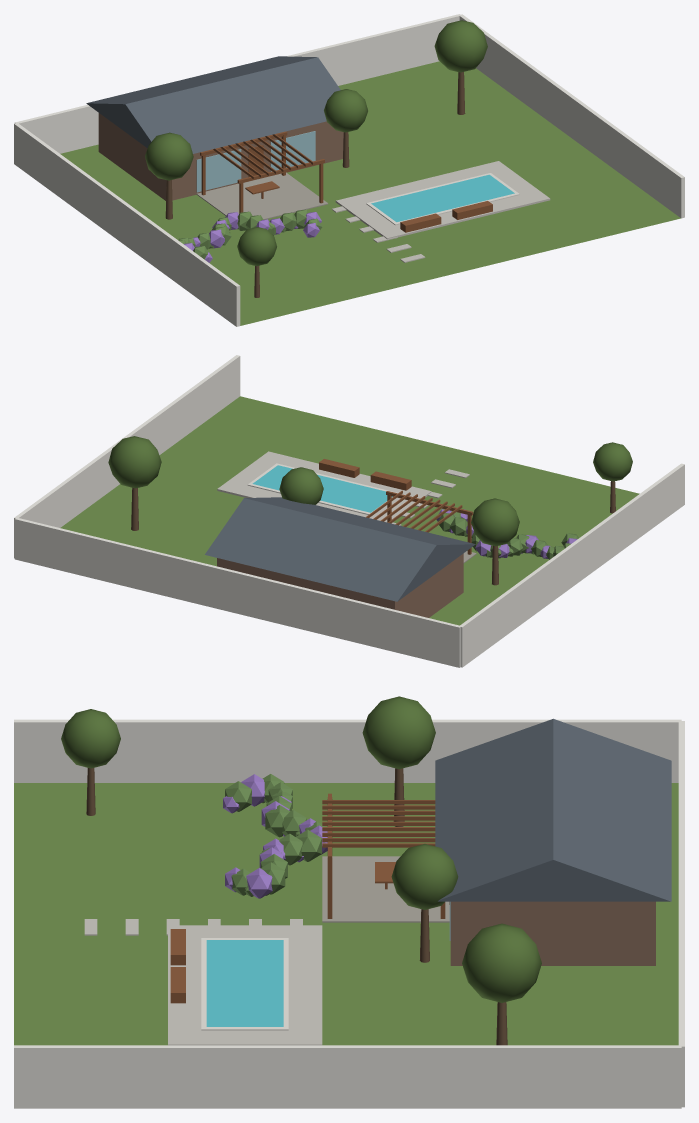
The model's file is maqueta-low-poly.glb.
The picture shows the model from 3 angles, top to bottom: view 1: azimuth 30°, elevation 25°; view 2: azimuth 150°, elevation 25°; view 3: azimuth 270°, elevation 25°; orthographic projection. The views are drawn at different scales.
Visible parts, largest first — view 1: Terreno, Techo, Medianera izquierda, Medianera derecha, Medianera fondo, Copa (×4), Volumen, Solárium, Piso galería, Agua, Ventanal izquierdo, Banco (×2) (+2 smaller); view 2: Terreno, Medianera fondo, Techo, Medianera izquierda, Medianera derecha, Copa (×4), Volumen, Solárium, Agua, Banco (×2), Borde; view 3: Terreno, Medianera derecha, Techo, Medianera izquierda, Copa (×4), Volumen, Solárium, Agua, Piso galería, Medianera fondo, Borde.
Part boxes in pixels (x1,y1,x2,y2): Terreno: (60,61,680,325); Techo: (86,56,340,153); Medianera izquierda: (14,123,240,326); Medianera derecha: (459,14,684,218); Medianera fondo: (14,14,461,153); Copa (×4): (145,20,487,266); Volumen: (98,113,343,200); Solárium: (335,161,550,238); Piso galería: (196,172,328,219); Agua: (371,174,514,222); Ventanal izquierdo: (196,149,241,192); Banco (×2): (400,201,492,232); Terreno: (60,396,639,625); Medianera fondo: (14,518,460,667); Techo: (205,497,475,601); Medianera izquierda: (460,463,684,667); Medianera derecha: (14,355,240,558); Copa (×4): (108,436,632,546); Volumen: (217,553,463,617); Solárium: (217,451,431,522); Agua: (252,465,392,512); Banco (×2): (319,459,411,490); Borde: (247,463,397,514); Terreno: (14,783,678,1045); Medianera derecha: (14,1045,681,1108); Techo: (435,718,671,901); Medianera izquierda: (14,719,681,782); Copa (×4): (61,696,541,1002); Volumen: (450,901,655,965); Solárium: (168,925,322,1045); Agua: (206,940,283,1026); Piso galería: (322,856,449,922); Medianera fondo: (678,721,684,1107); Borde: (201,938,288,1030).
Bounding box in the file's own units: 30.25 × 5.91 × 26.12.
